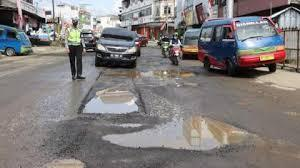Pothole: (49, 68, 259, 168), (90, 110, 274, 155), (90, 64, 226, 92)
